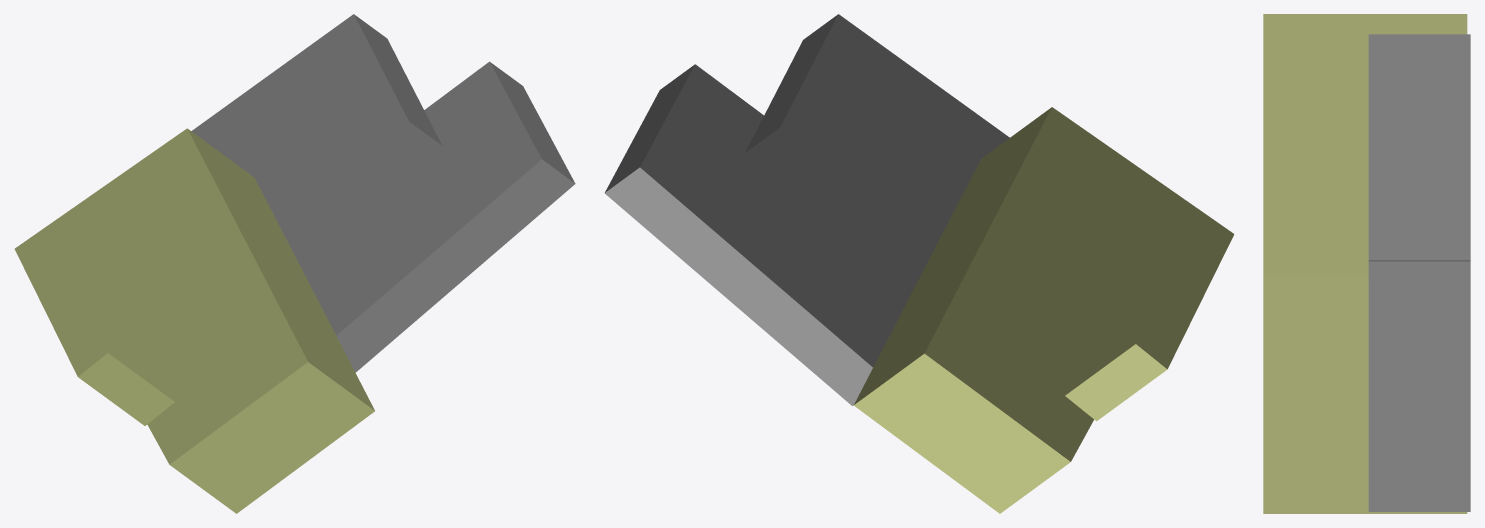
3 renders of one model, left to right at view 1: azimuth 30°, elevation 25°; view 2: azimuth 150°, elevation 25°; view 3: azimuth 270°, elevation 25°, orthographic. The views are drawn at different scales.
Parts seen in each view (by area): view 1: 0_1_0_2_0_0_1_3_3_1; view 2: 0_1_0_2_0_0_1_3_3_1; view 3: 0_1_0_2_0_0_1_3_3_1.
Part boxes in pixels (x1,y1,x2,y2): 0_1_0_2_0_0_1_3_3_1: (14, 14, 575, 513); 0_1_0_2_0_0_1_3_3_1: (604, 14, 1234, 513); 0_1_0_2_0_0_1_3_3_1: (1263, 14, 1470, 513).
Bounding box in the file's own units: 27.25 × 19.94 × 6.1.
